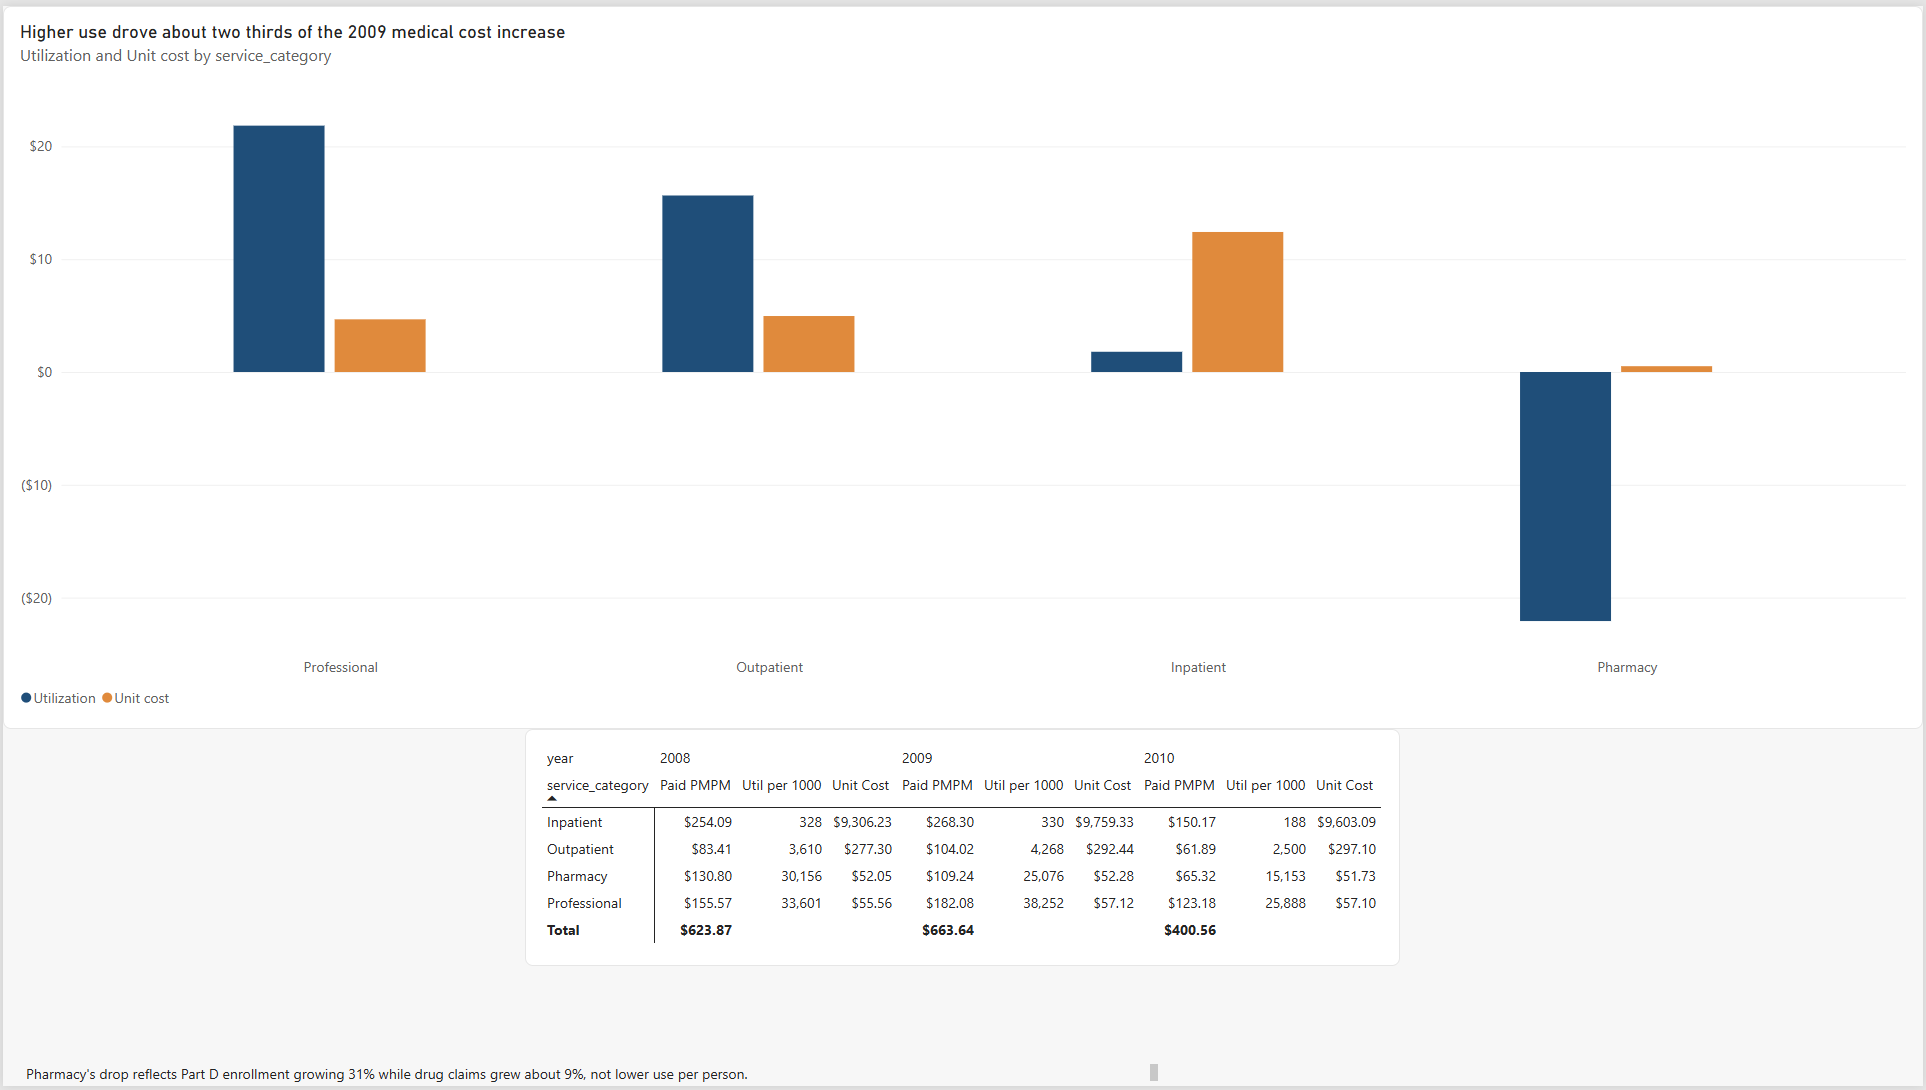

This screenshot's page, from the dashboard's own definition file:
{"tool":"powerbi","page":{"name":"Trend Drivers","canvas":[1920,1080],"ordinal":1},"visuals":[{"type":"clusteredColumnChart","title":"Higher use drove about two thirds of the 2009 medical cost increase","fields":{"Category":["trend.service_category"],"Y":["Sum(trend.util_effect_pmpm)","Sum(trend.unit_cost_effect_pmpm)"]},"box":[0,0,1920,723.3],"z":0},{"type":"pivotTable","fields":{"Columns":["Year.year"],"Rows":["category_year.service_category"],"Values":["category_year.Paid PMPM","category_year.Util per 1000","category_year.Unit Cost"]},"box":[521.7,723.3,875,236.7],"z":1000},{"type":"textbox","box":[23.3,1058.3,1131.7,21.7],"z":2000}]}

Visuals, with their boxes in screenshot pixels (x1, y1, x2, y2), scaled from the page's 1920x1080 canvas onto the 1926x1090 screenshot:
"Higher use drove about two thirds of the 2009 medical cost increase" clusteredColumnChart: BBox(0, 0, 1925, 730)
pivotTable - Year.year x category_year.service_category: BBox(523, 730, 1401, 969)
textbox: BBox(23, 1068, 1159, 1089)
